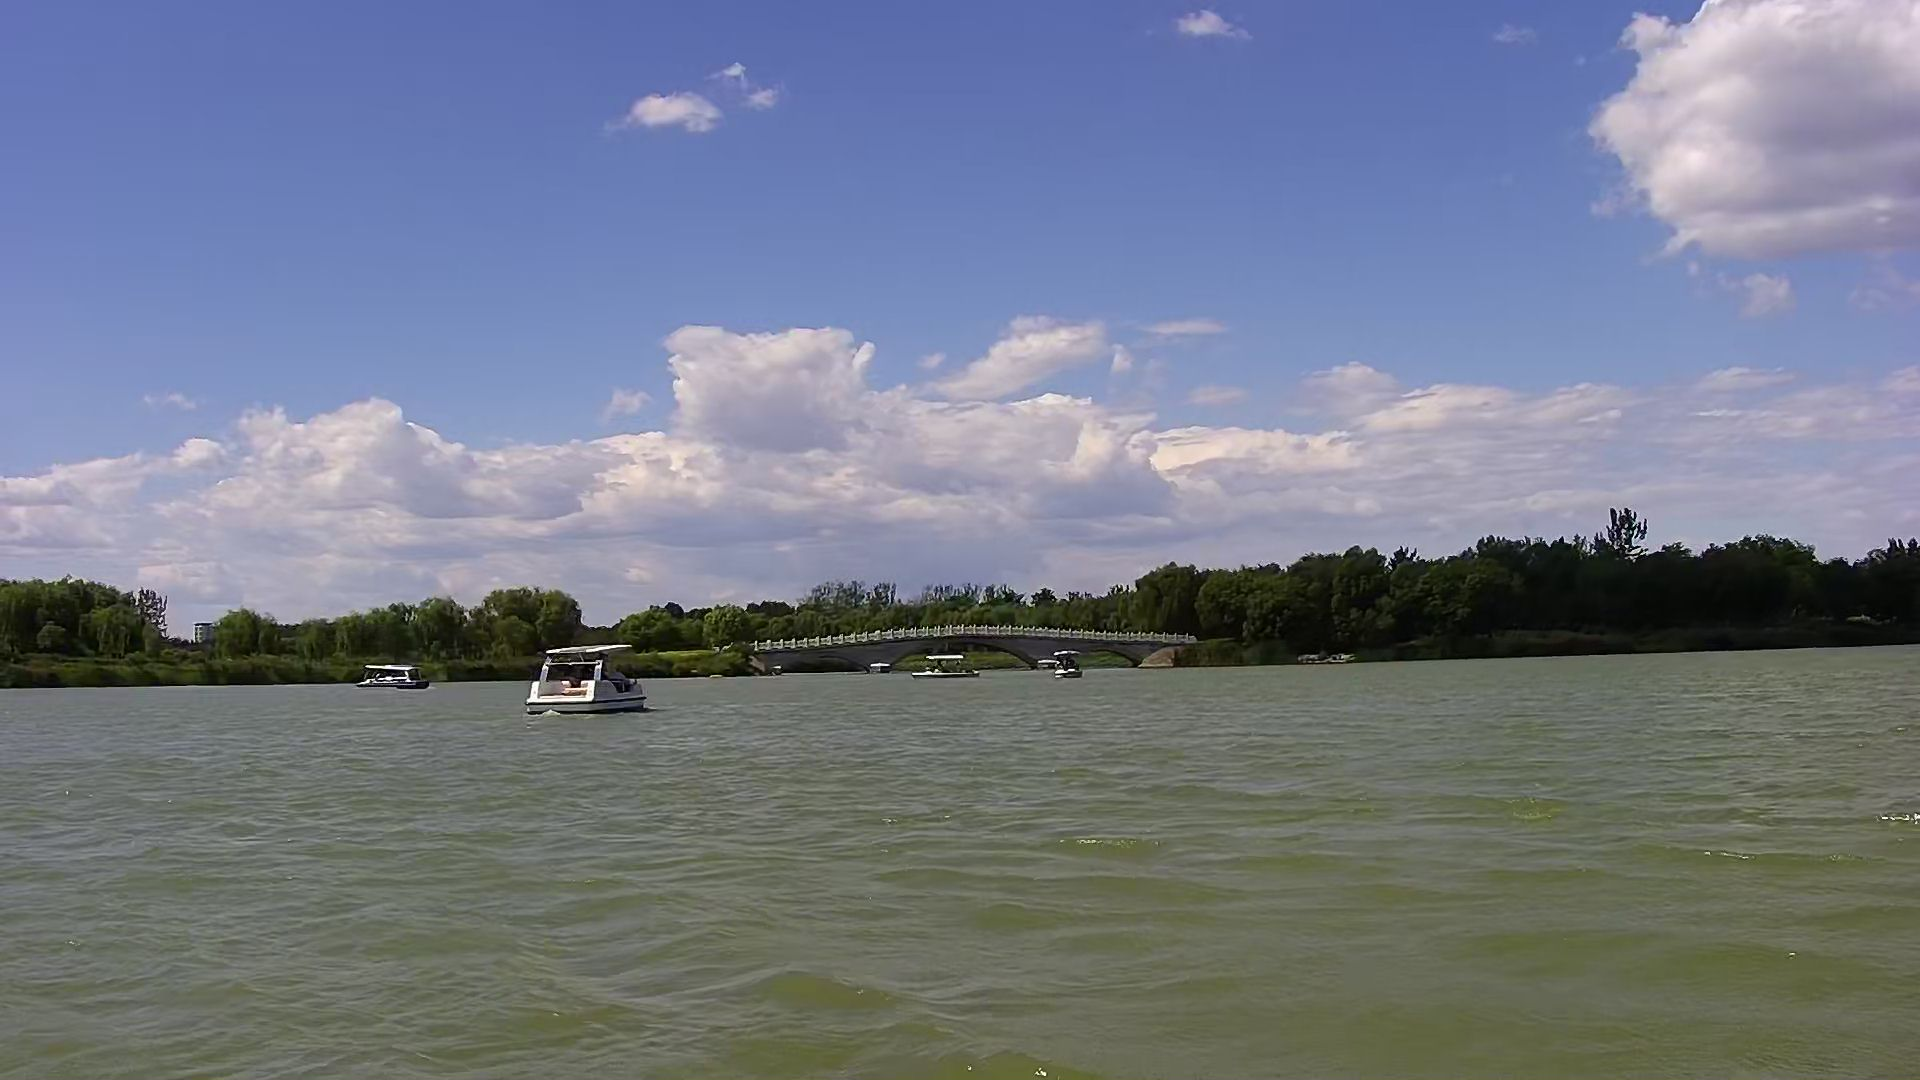boat: (527, 646, 650, 712), (359, 658, 433, 696), (911, 644, 984, 679)
bridge: (764, 626, 1142, 678)
